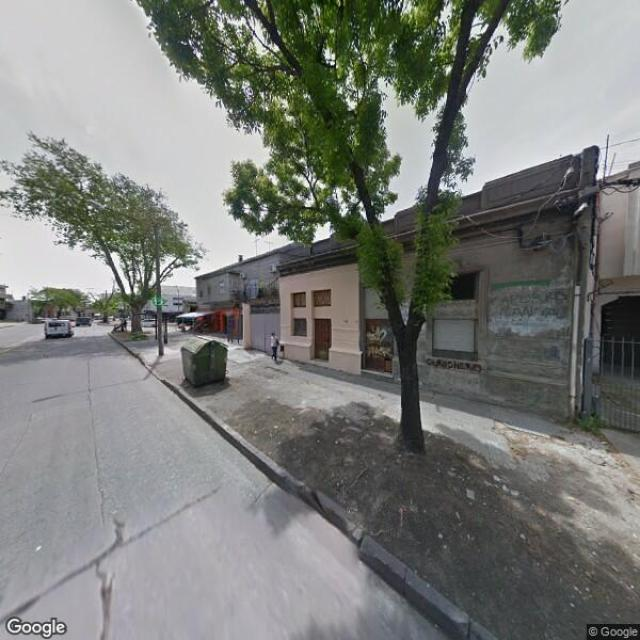garbage container: (176, 332, 236, 401)
